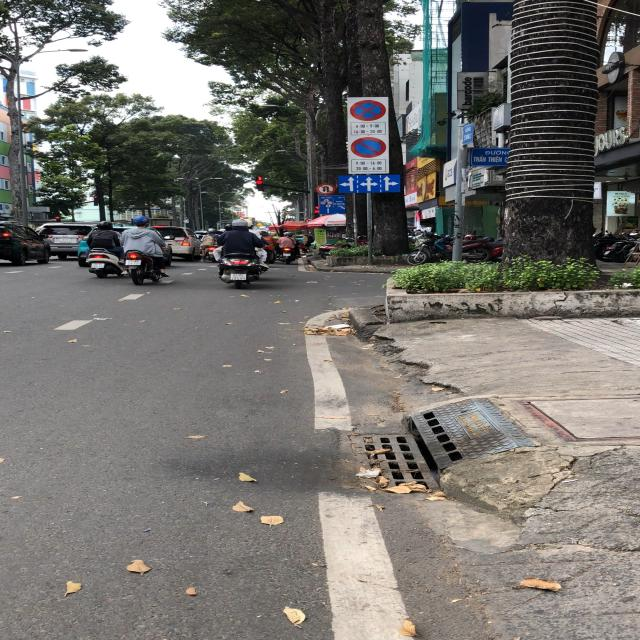Bien bao cam do xe: (348, 134, 387, 160)
Bien bao cam dung xe va do xe: (346, 99, 391, 122)
Bien bao cam quay dau xe: (315, 182, 336, 194)
